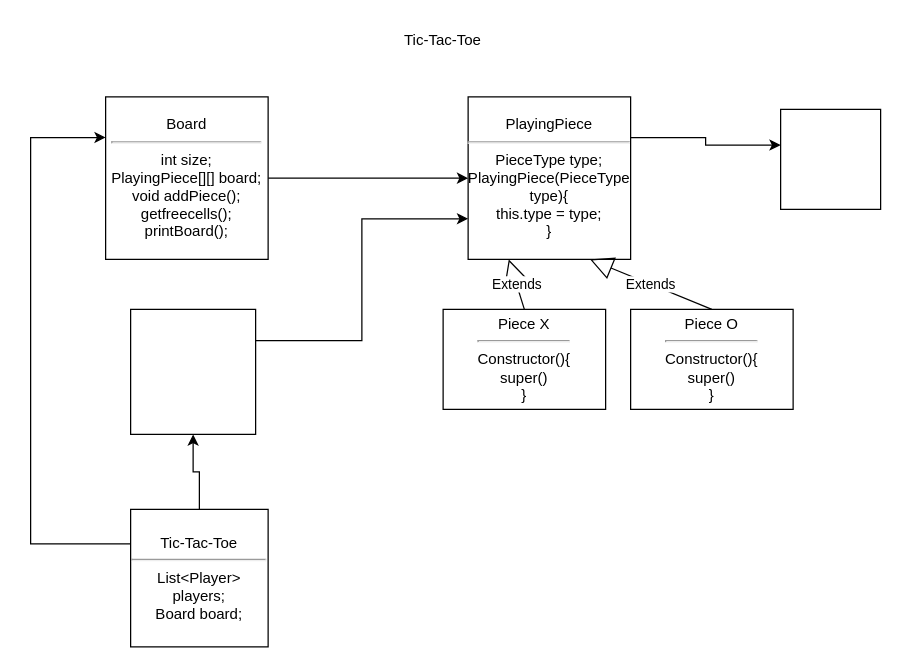
This 903x669 diagram has some shape labels left out. The centre of each missing label's shape, as x and y in pixels:
"PieceType enum X, O;" belongs at point (830, 158).
"Player string name; PlayingPiece piece;" belongs at point (192, 371).
